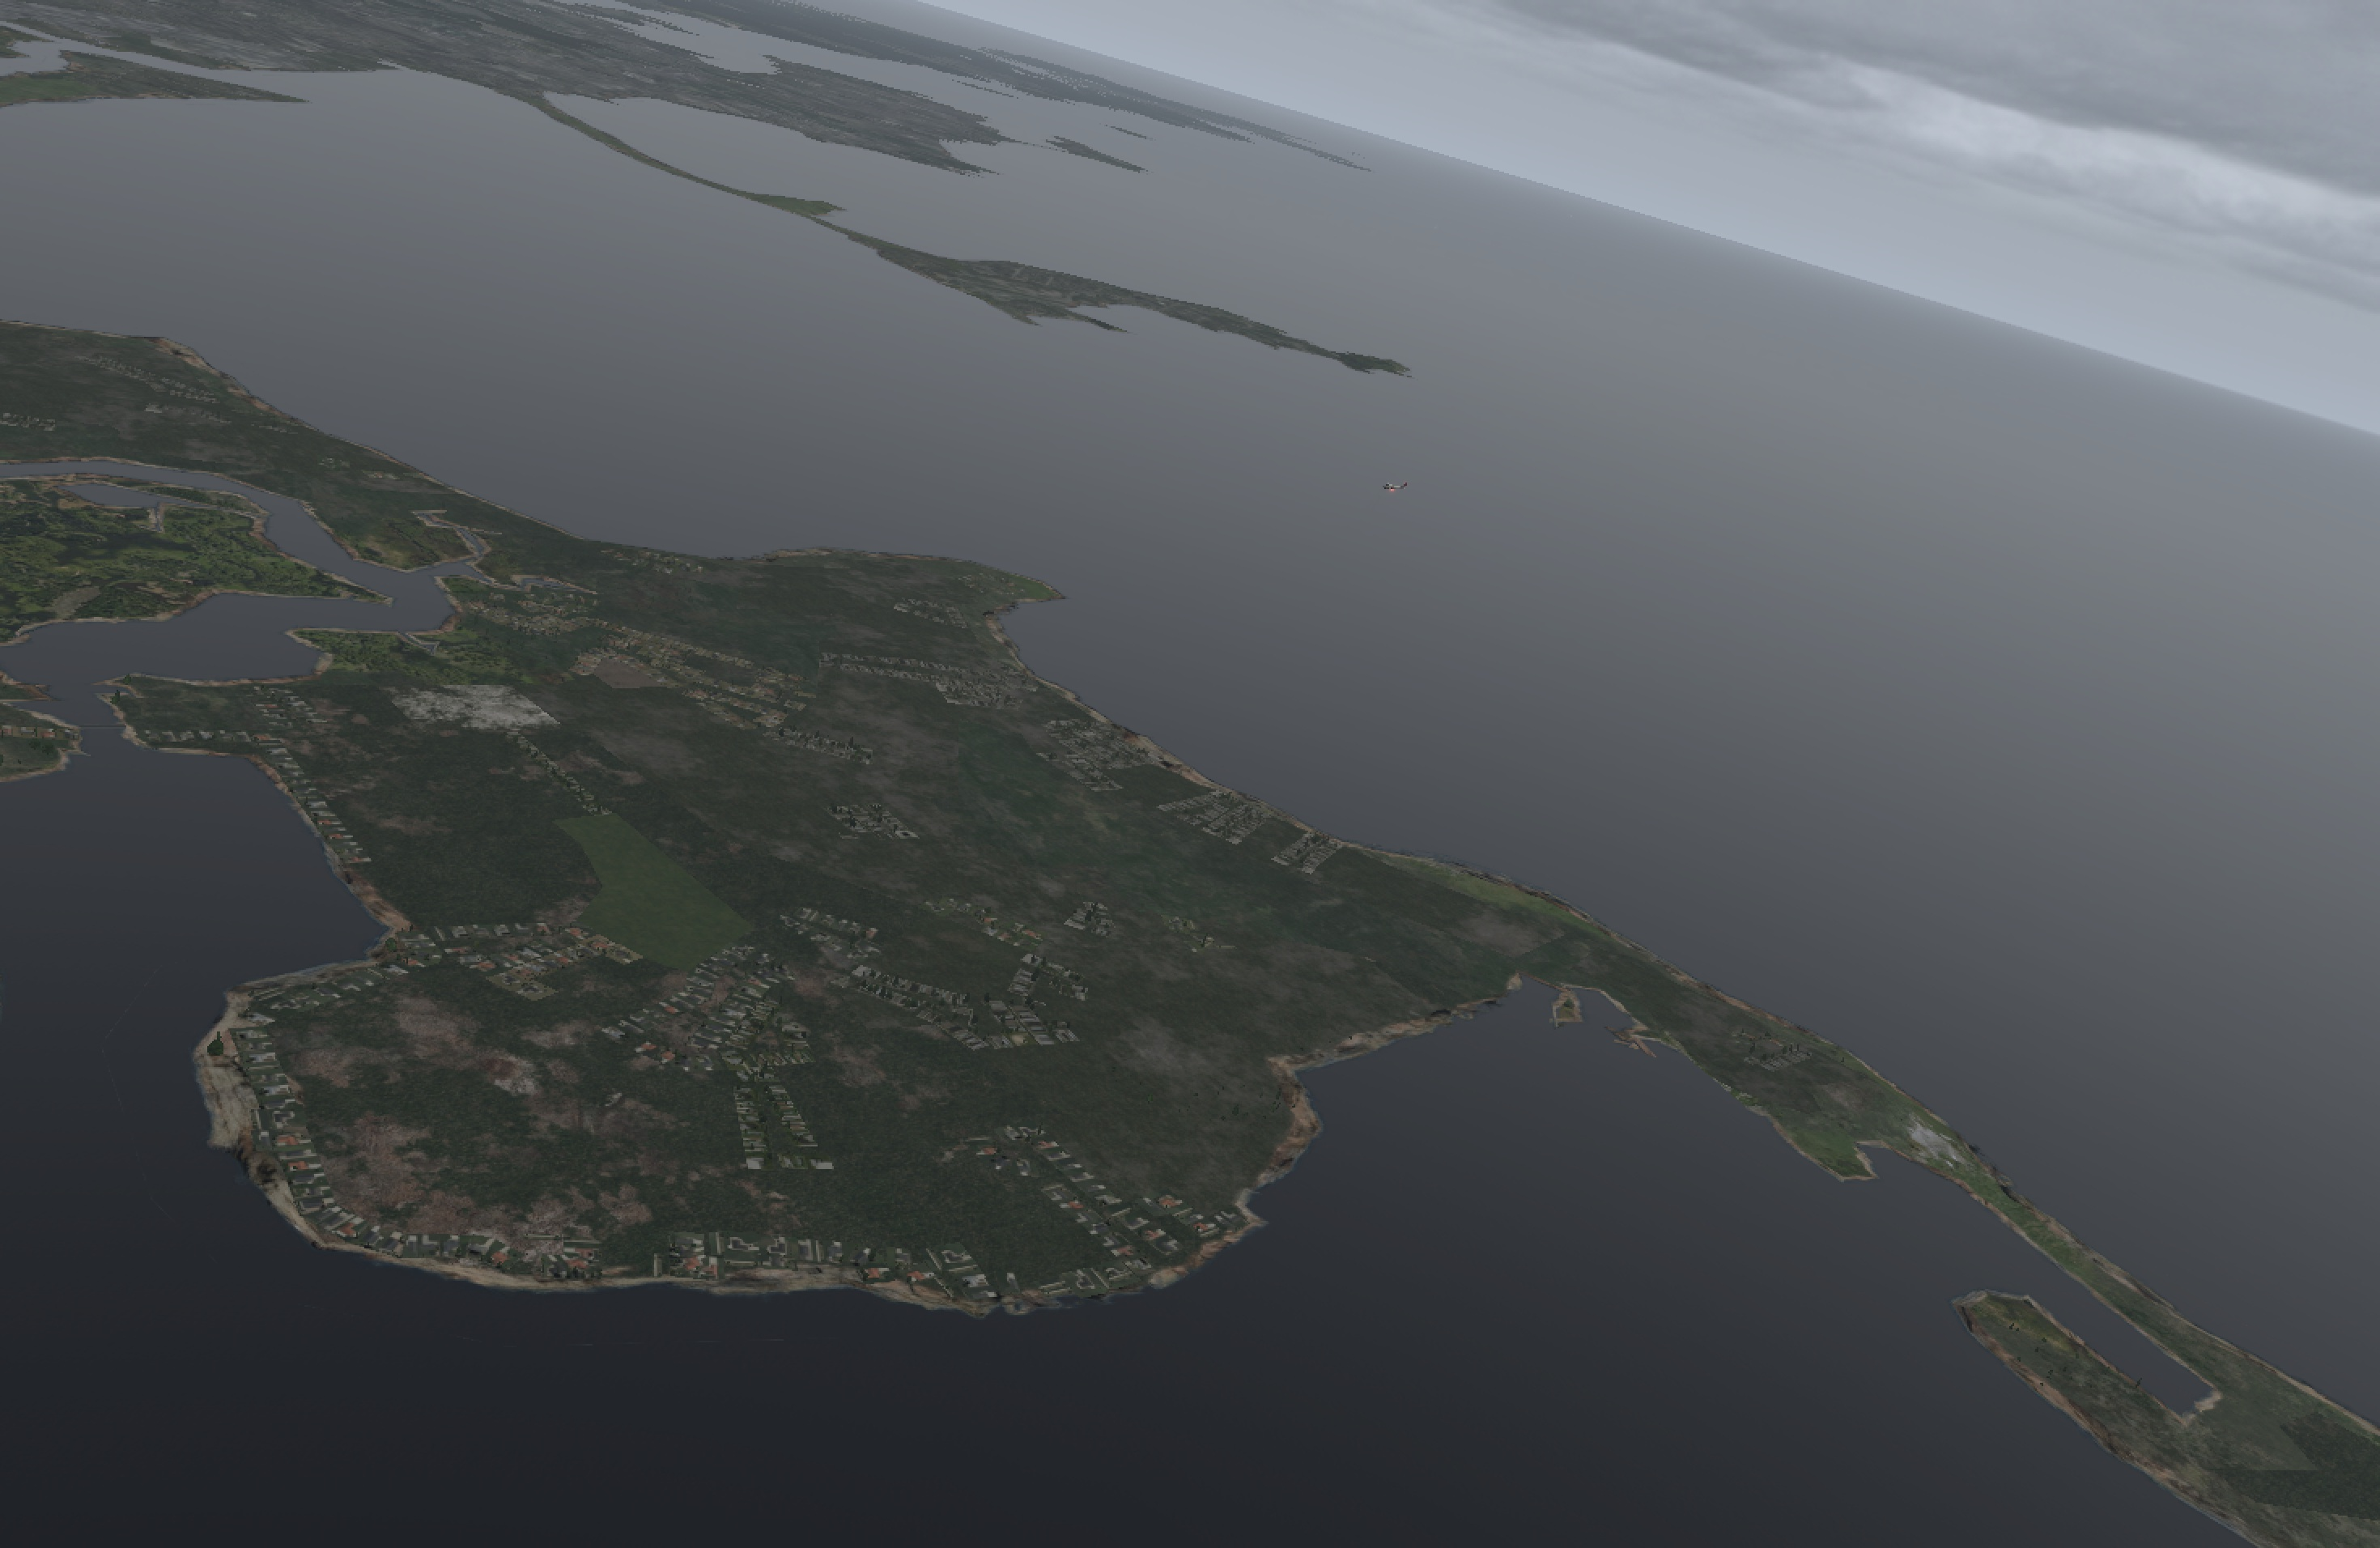aircraft: (1372, 481, 1407, 495)
